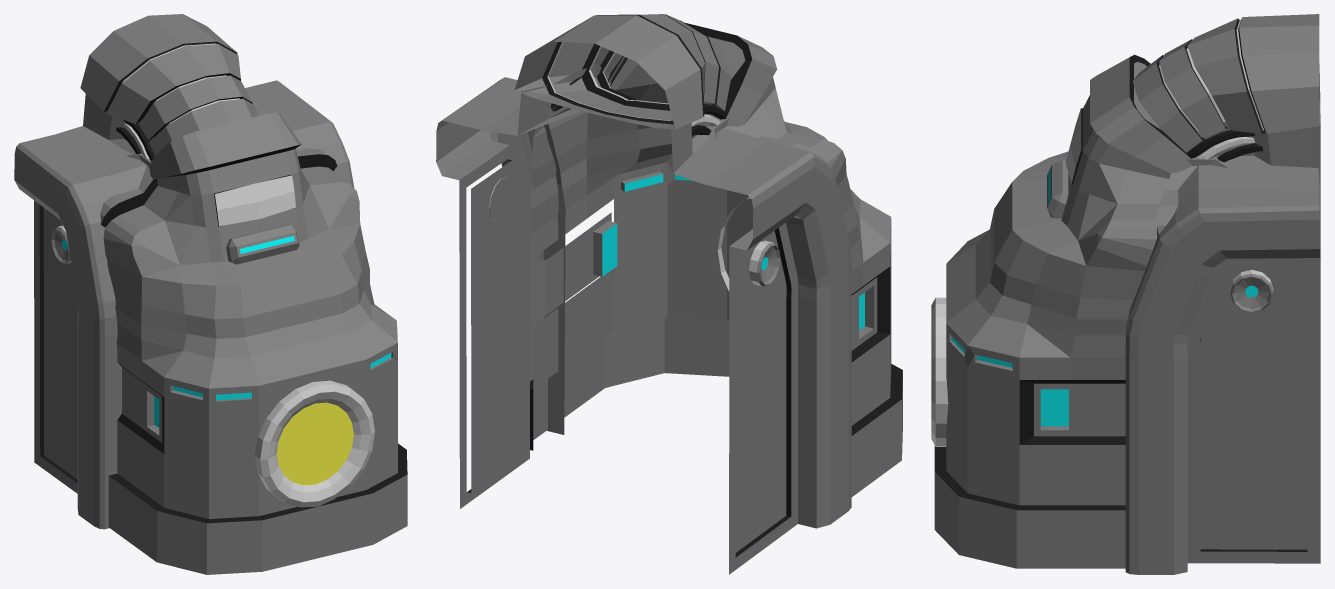
The model's file is Module_001.fbx.
The picture shows the model from 3 angles, left to right: view 1: azimuth 30°, elevation 25°; view 2: azimuth 150°, elevation 25°; view 3: azimuth 270°, elevation 25°; orthographic projection. The views are drawn at different scales.
Parts seen in each view (by area): view 1: Module_001; view 2: Module_001; view 3: Module_001.
Boxes of the visible parts, <box> form: Module_001: <box>14,14,407,574</box>; Module_001: <box>436,14,902,574</box>; Module_001: <box>931,14,1320,574</box>.
Size of the model in its own units: 308 by 461 by 342.
